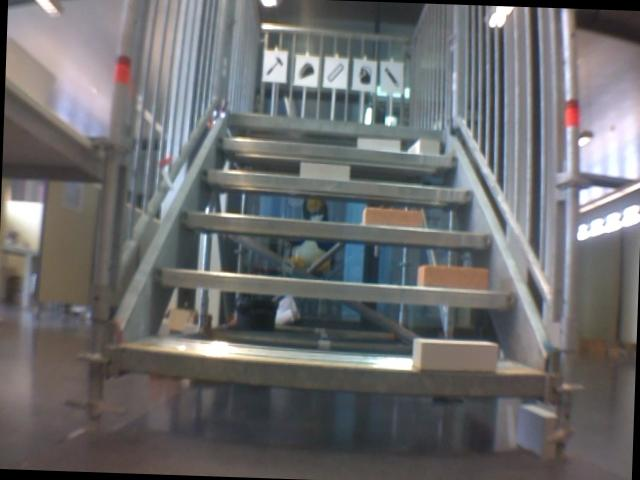brick: (412, 338, 497, 371), (417, 264, 487, 289), (363, 207, 422, 227), (300, 163, 348, 179), (358, 139, 400, 152), (409, 138, 439, 155)
bucket: (355, 64, 374, 86)
edge: (120, 347, 548, 400), (153, 268, 515, 307), (176, 212, 495, 249), (198, 168, 473, 202), (216, 138, 457, 166), (227, 111, 442, 139)
hammer: (264, 53, 284, 78)
pencil: (383, 66, 400, 88)
ruler: (324, 60, 346, 85)
steps: (116, 104, 560, 407)
taco: (295, 60, 316, 80)
